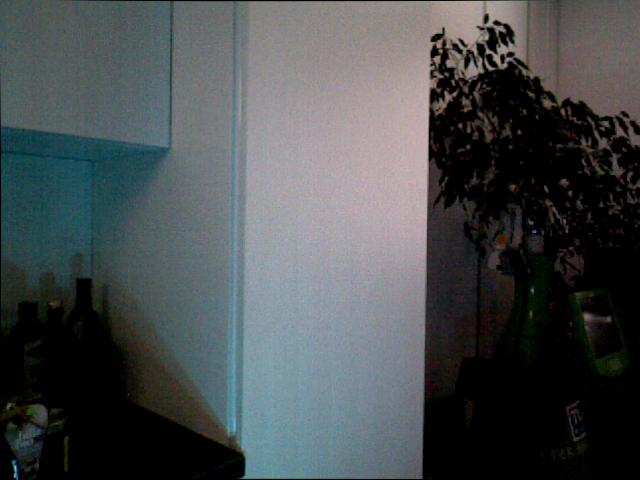bench: (70, 273, 109, 421), (11, 296, 53, 410), (42, 297, 80, 414), (1, 398, 52, 480)
carrot: (428, 12, 639, 378)
hot dog: (229, 0, 428, 480)
